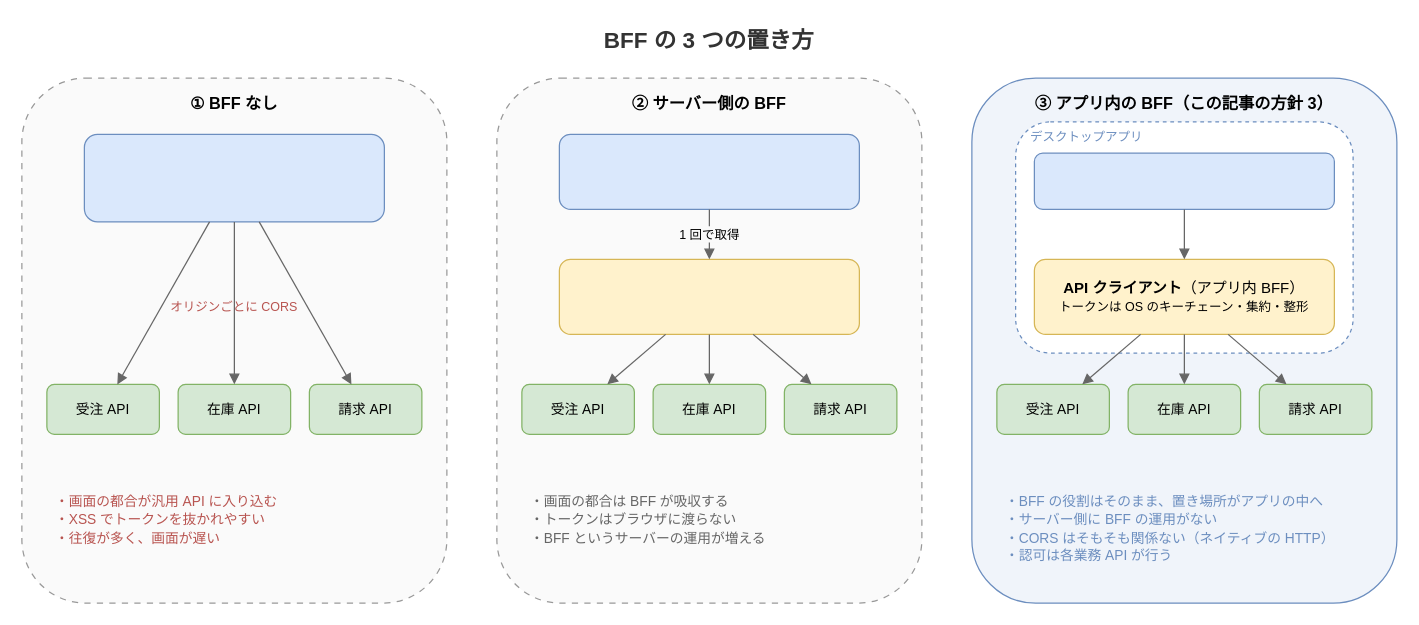
Some shapes in this 1419 by 625 pixel diagram are drawn without their labels. The centre of each missing label's shape, as x and y in pixels:
BFF （サーバー） トークンを保持・集約・画面用に整形: point (708, 296)
ブラウザの SPA HttpOnly の Cookie だけを持つ: point (708, 171)
ブラウザの SPA トークンを JavaScript で持つ 画面ごとに何本も API を呼ぶ: point (233, 177)
業務画面 （WebView）: point (1183, 180)
